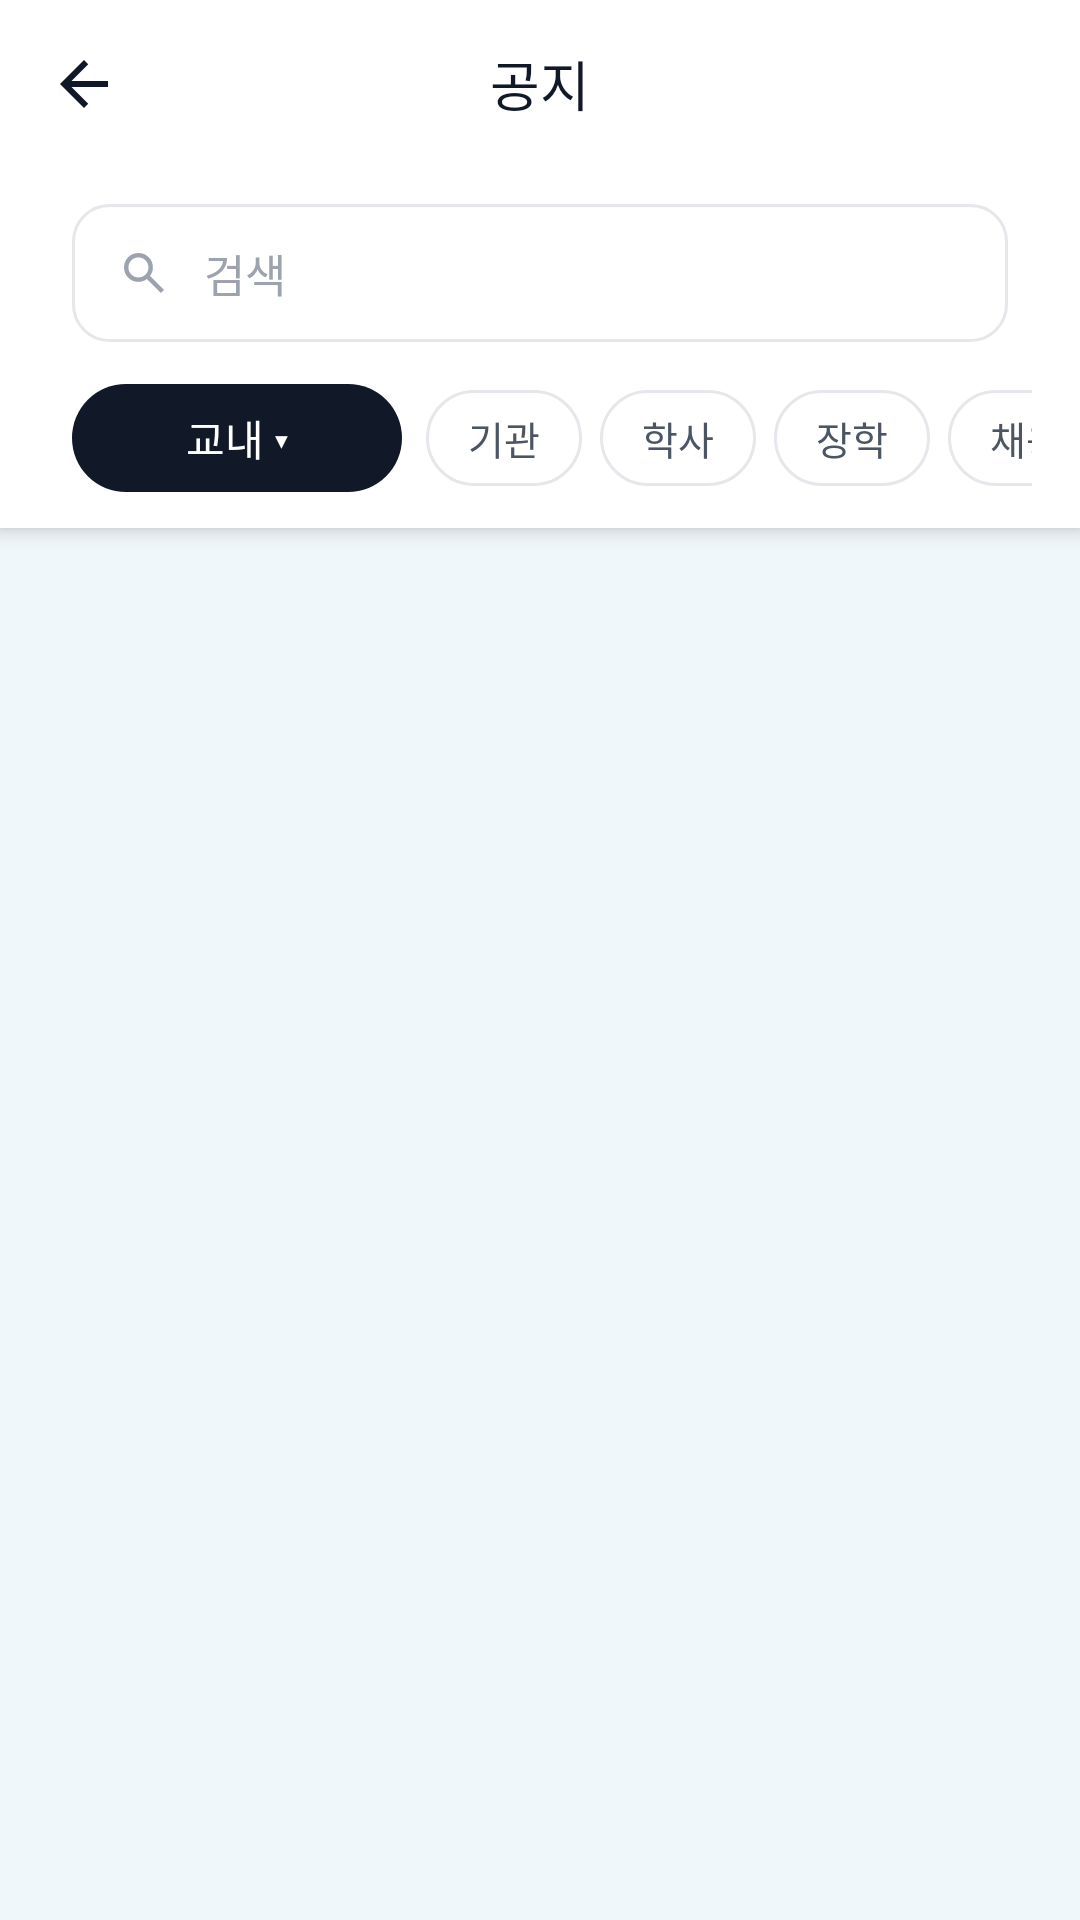

Icon click points for this 1080 × 1920 phone screenshot, format [x,y]:
뒤로: [84,84]
